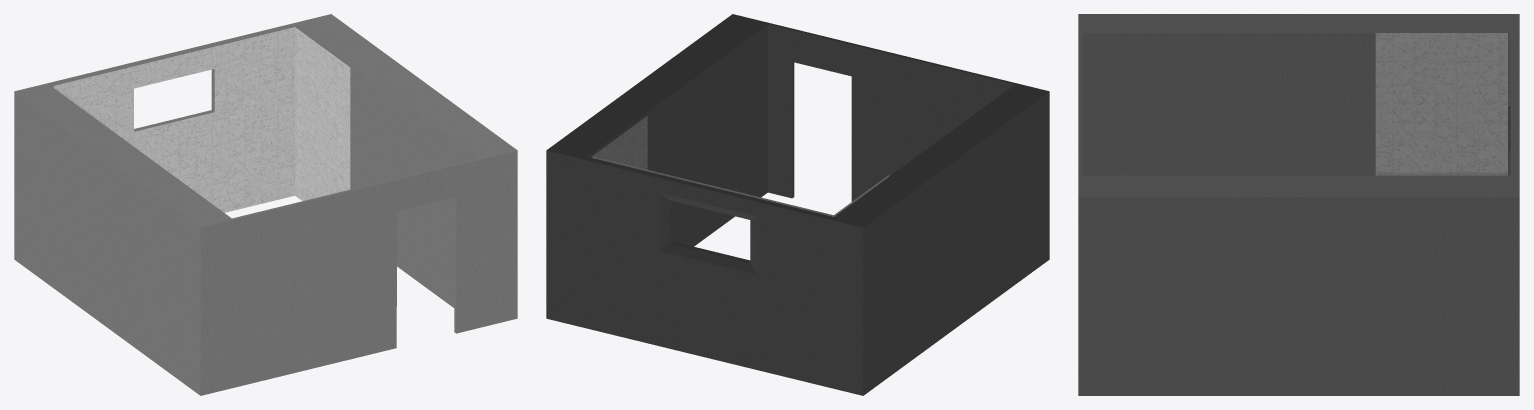
Rendered from Walls_9c3ec9d0.obj.
3 renders of one model, left to right at view 1: azimuth 30°, elevation 25°; view 2: azimuth 150°, elevation 25°; view 3: azimuth 270°, elevation 25°, orthographic. The views are drawn at different scales.
Parts seen in each view (by area): view 1: Walls_9c3ec9d0; view 2: Walls_9c3ec9d0; view 3: Walls_9c3ec9d0.
Boxes of the visible parts, box(x1,y1,x2,y2) form: Walls_9c3ec9d0: box(14, 14, 517, 395); Walls_9c3ec9d0: box(546, 14, 1049, 395); Walls_9c3ec9d0: box(1078, 14, 1519, 395).
Size of the model in its own units: 5.06 by 2.57 by 5.15.
